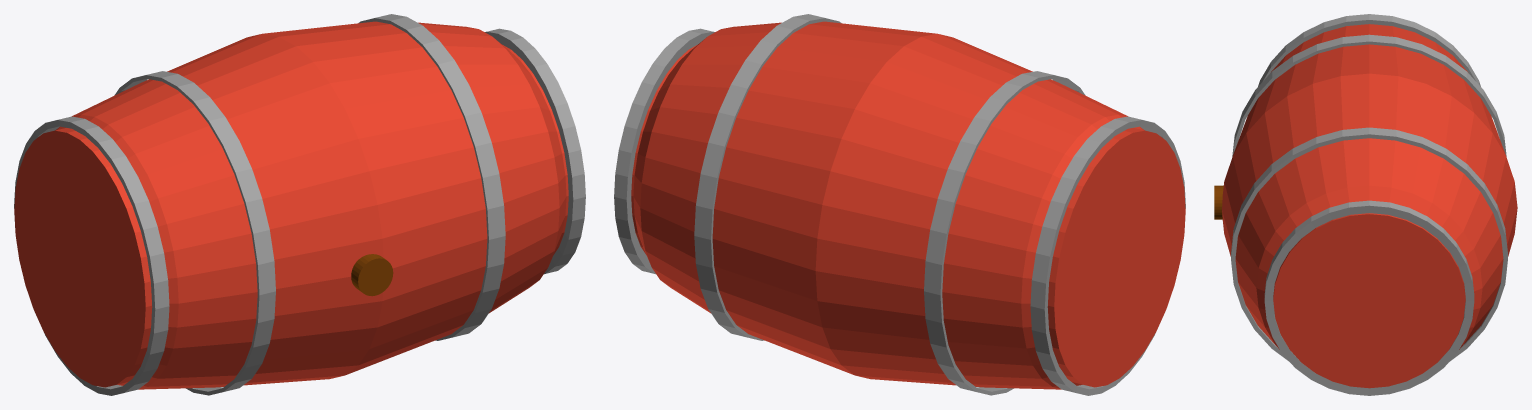
Rendered from Modelo Bomba.fbx.
3 renders of one model, left to right at view 1: azimuth 30°, elevation 25°; view 2: azimuth 150°, elevation 25°; view 3: azimuth 270°, elevation 25°, orthographic. The views are drawn at different scales.
Visible parts, largest first — view 1: Base Bomba, Acero, Corcho; view 2: Base Bomba, Acero; view 3: Base Bomba, Acero, Corcho.
Part boxes in pixels (x1=…): Base Bomba: x1=14, y1=21, x2=568, y2=389; Acero: x1=14, y1=14, x2=585, y2=395; Corcho: x1=351, y1=254, x2=393, y2=296; Base Bomba: x1=631, y1=21, x2=1185, y2=389; Acero: x1=614, y1=14, x2=1185, y2=395; Base Bomba: x1=1222, y1=24, x2=1517, y2=388; Acero: x1=1231, y1=14, x2=1507, y2=395; Corcho: x1=1214, y1=185, x2=1223, y2=219.
Size of the model in its own units: 246 by 170 by 174.
